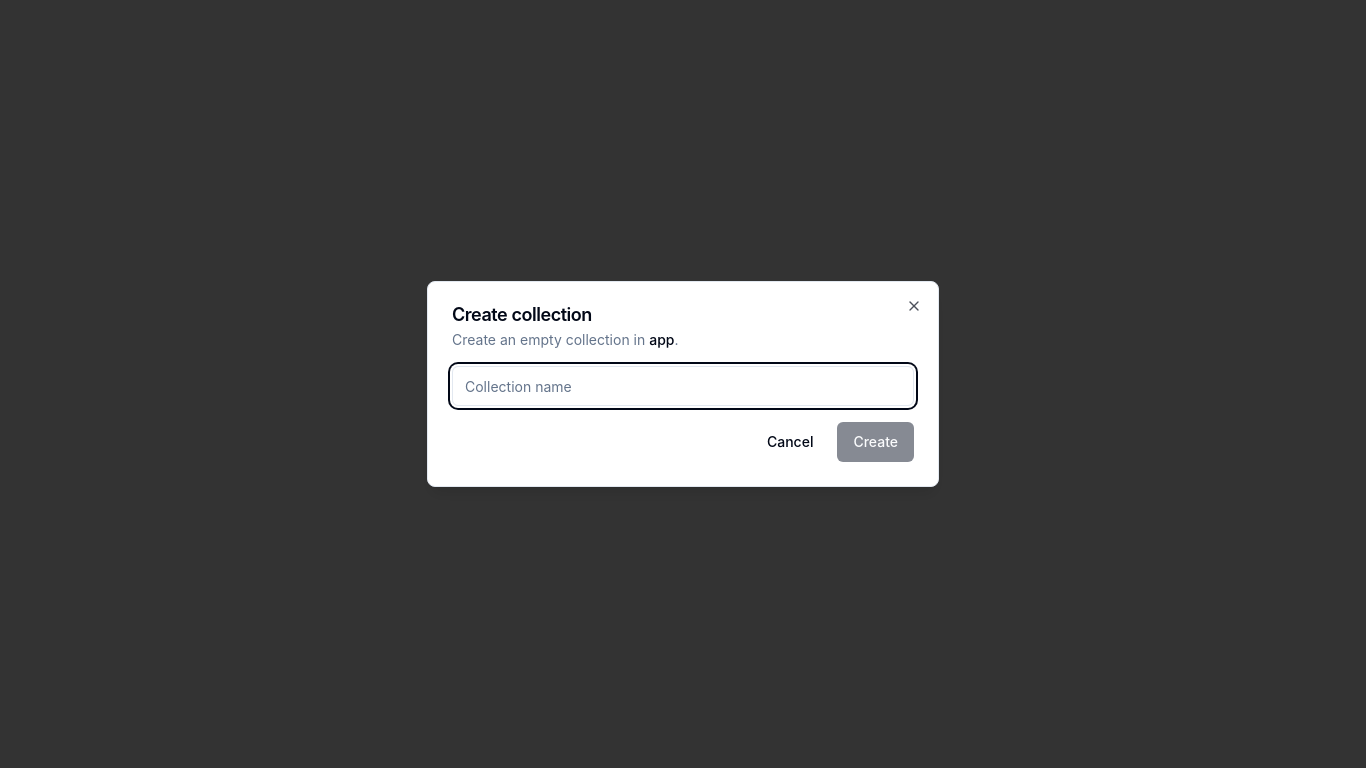
CreateCollectionDialog › rejects an existing collection name
Type "users" into the field with placeholder "Collection name".
click(683, 386); type("users")  # box [452, 366, 914, 406]
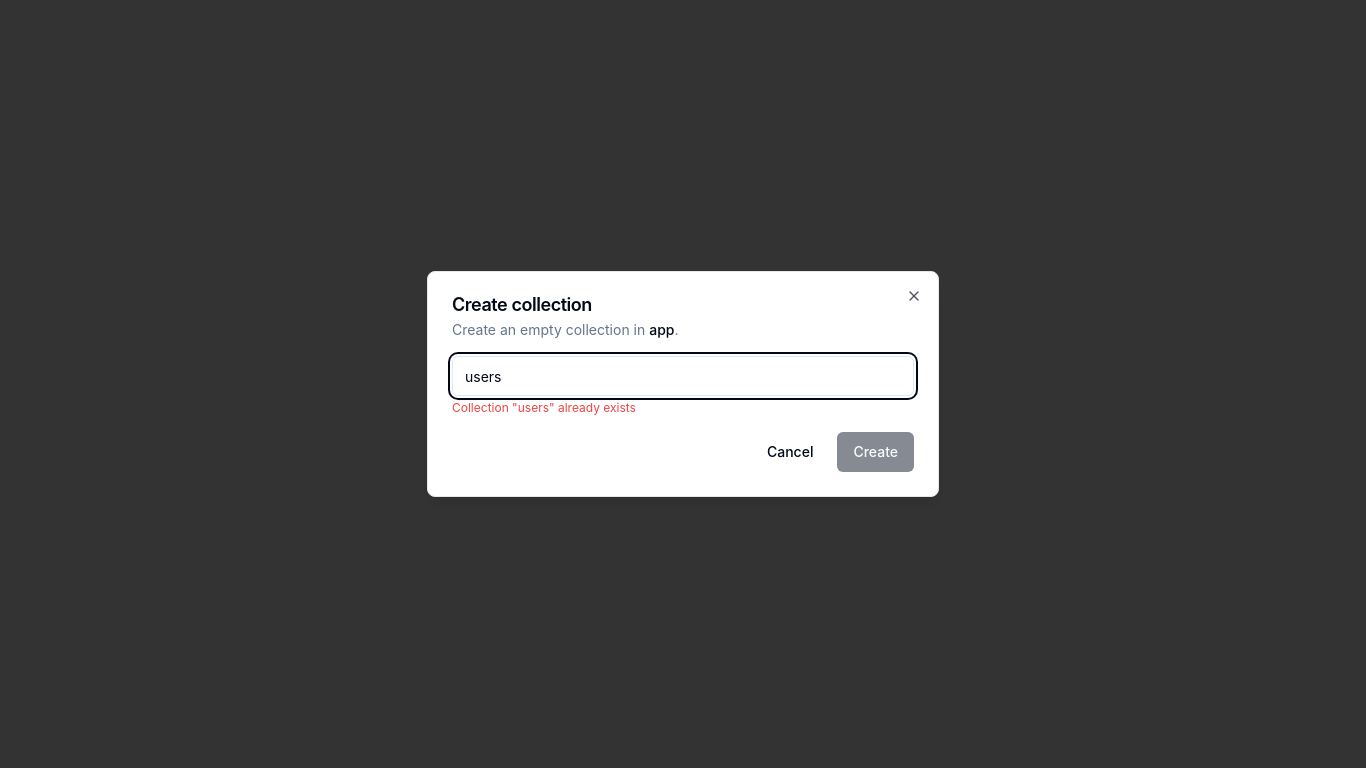
Expected: the button "Create" is disabled, [837, 432, 914, 472]
Now the text "Collection \"users\" already exists" is shown, box [452, 400, 636, 415]
